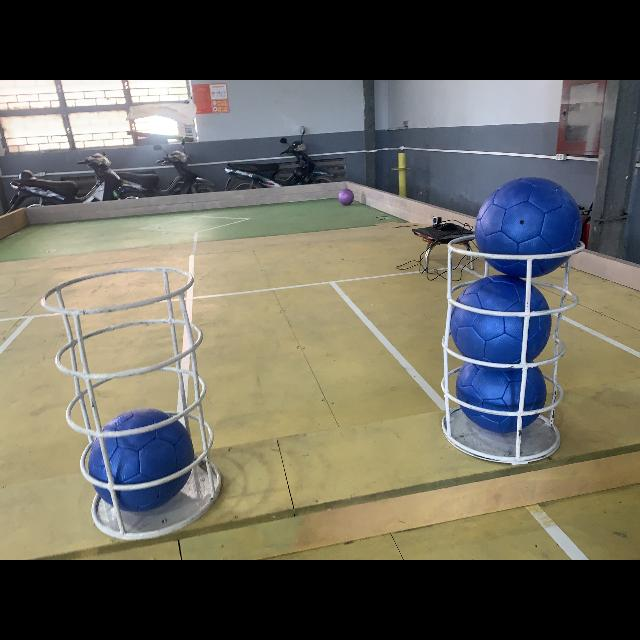B: (89, 410, 193, 508), (475, 178, 579, 276), (448, 274, 550, 360), (452, 360, 546, 434)
